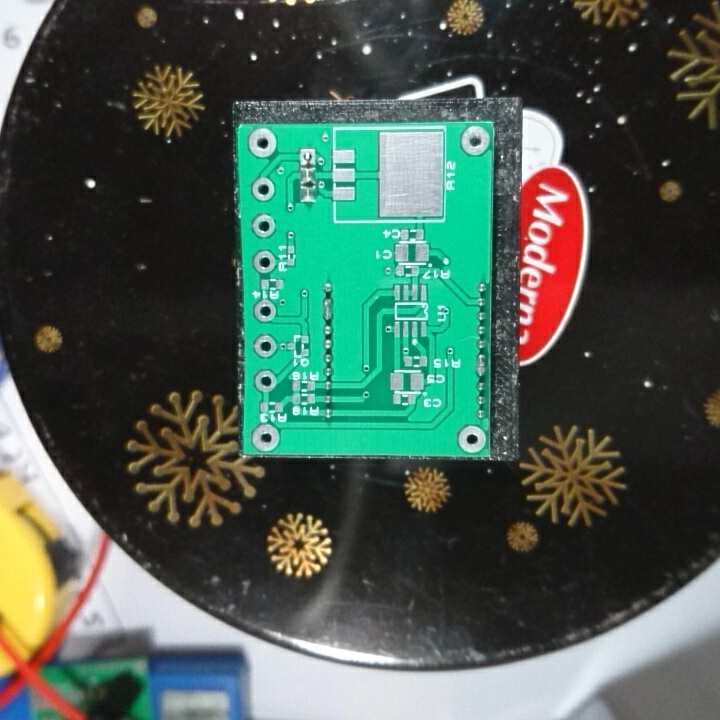F: (245, 126, 279, 160), (457, 123, 490, 158), (453, 424, 490, 455), (250, 421, 283, 452), (250, 211, 279, 242), (248, 175, 278, 203), (251, 297, 279, 326), (251, 248, 278, 275), (253, 334, 279, 360), (253, 369, 277, 394), (297, 146, 317, 166)
P: (319, 296, 339, 323), (475, 353, 490, 378)
